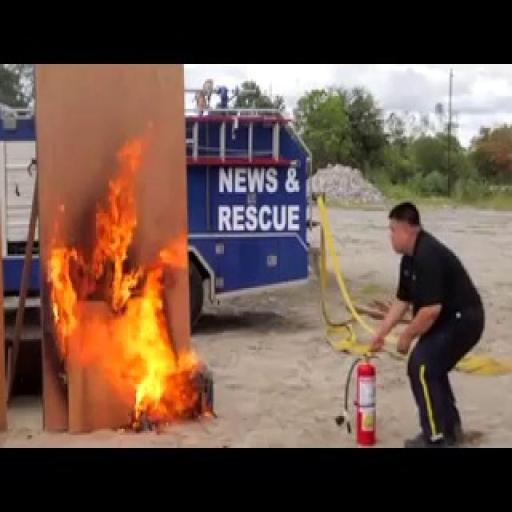smoke: (52, 128, 214, 431)
